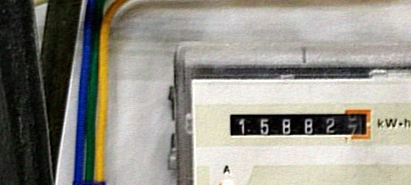1: (236, 117, 247, 135)
2: (324, 117, 336, 135)
5: (258, 118, 270, 136)
7: (346, 124, 358, 135)
8: (302, 117, 314, 136), (279, 118, 292, 135)
screen: (221, 104, 377, 148)
